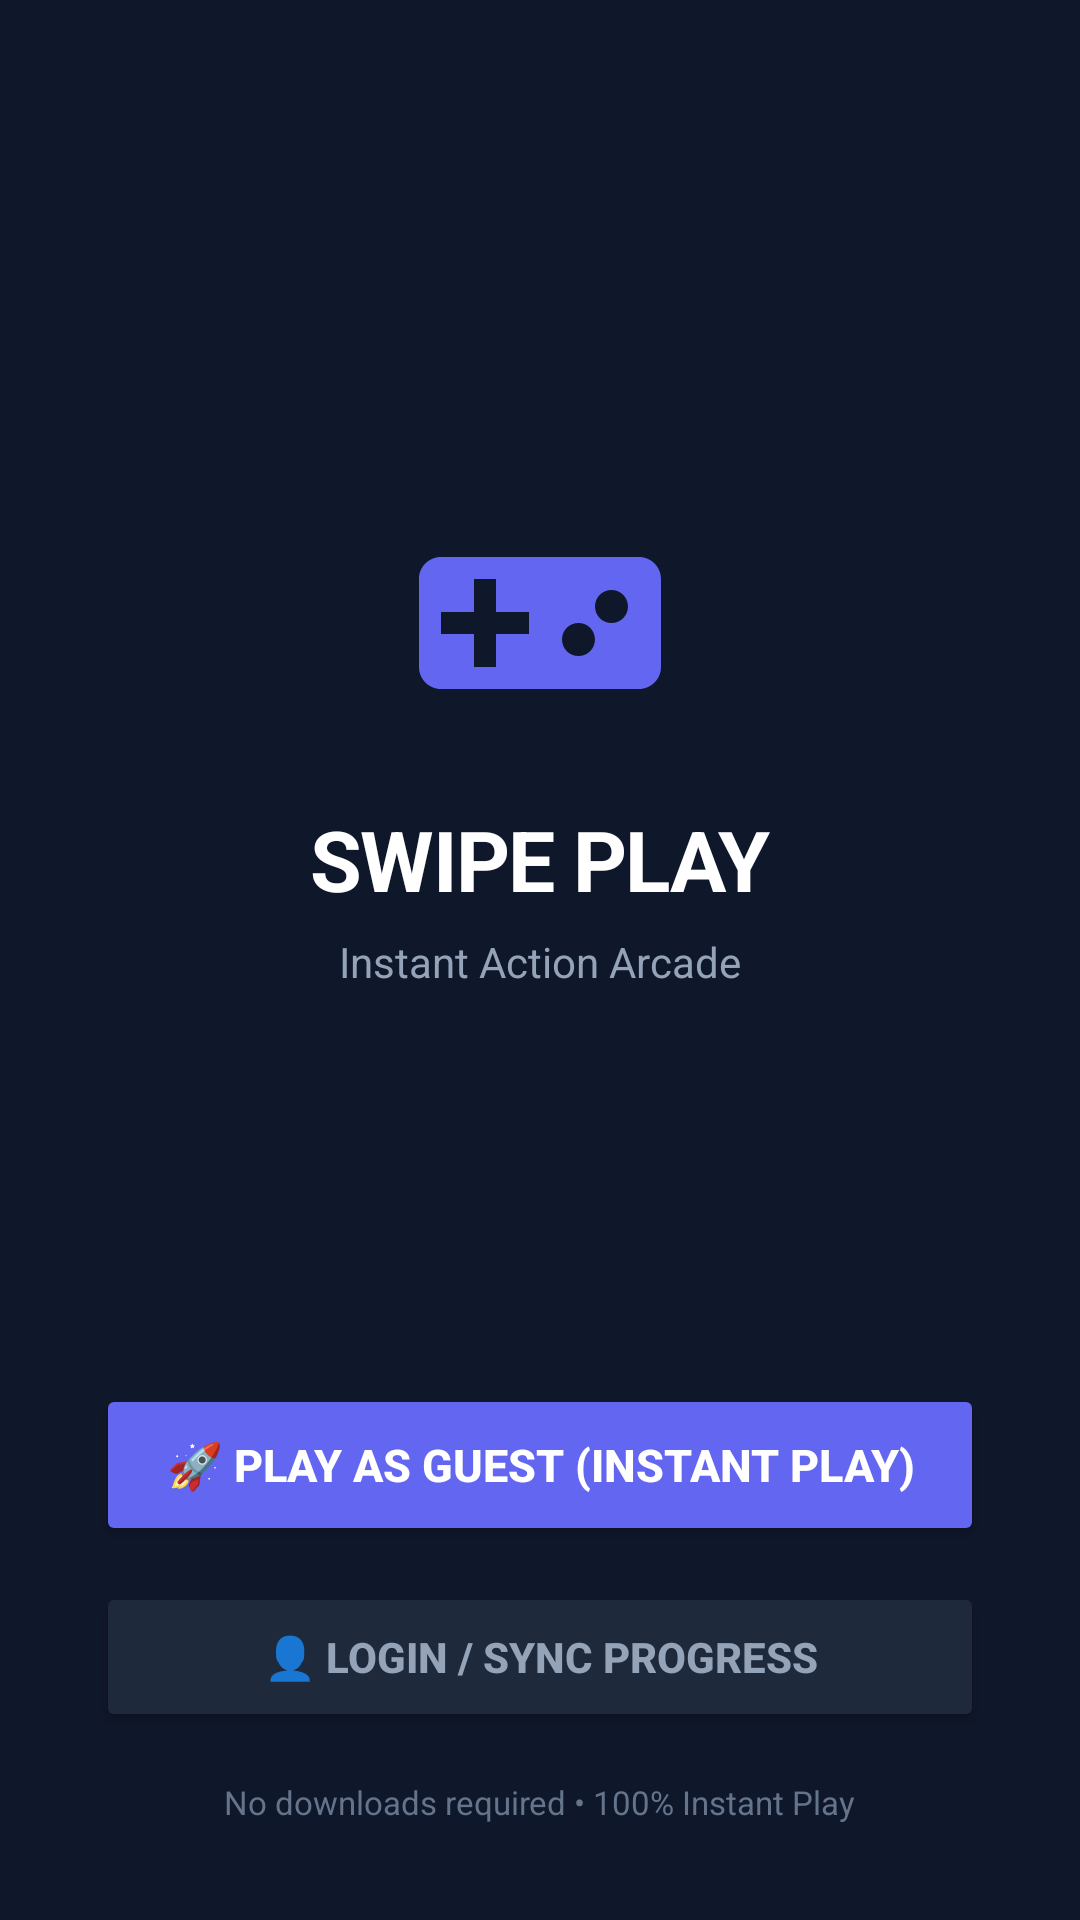

Icons on this 1080w x 1920h Android screen, each with the point to tap as (x=x, y=y):
gamepad: (x=540, y=623)
